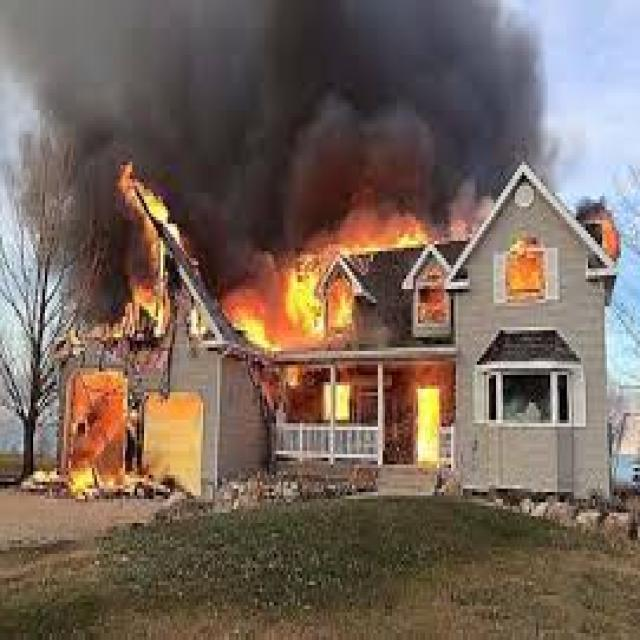Fire: (228, 202, 481, 342), (115, 160, 191, 342), (318, 381, 444, 474), (32, 464, 156, 502)
Smoke: (0, 0, 540, 152), (213, 156, 512, 196), (16, 152, 104, 255)
